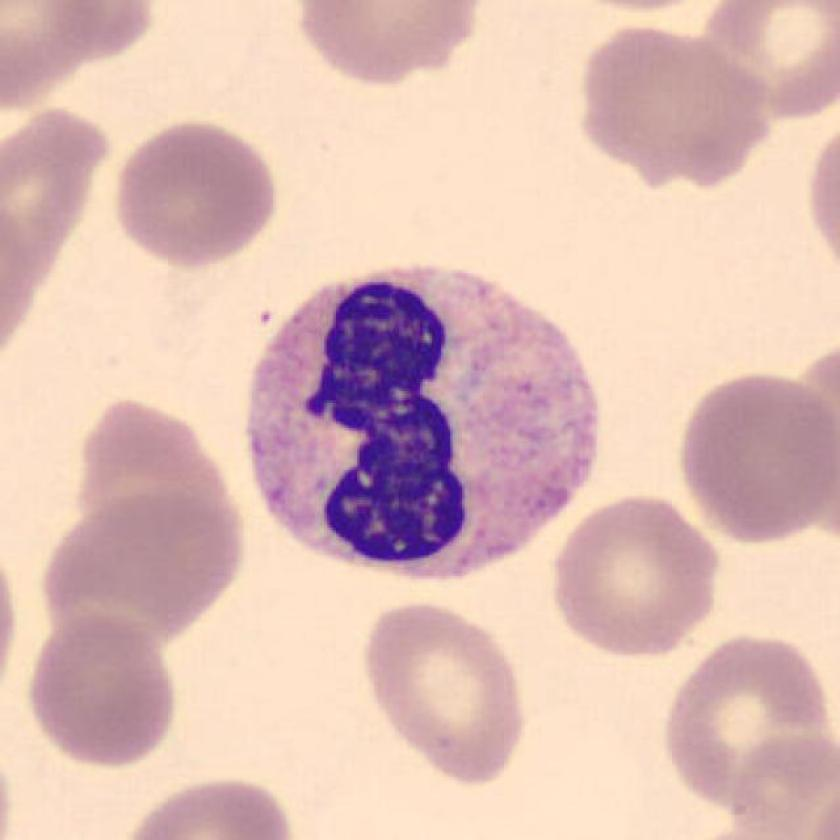neutrophil: (249, 270, 598, 579)
